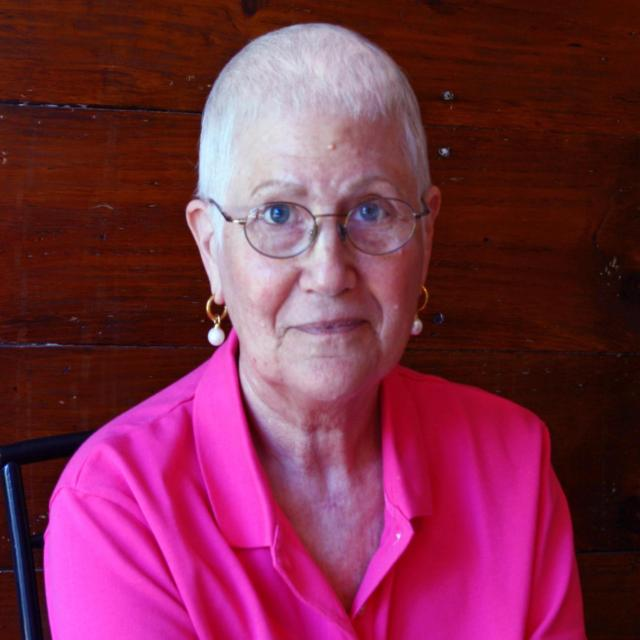no-glass: (254, 194, 397, 228)
